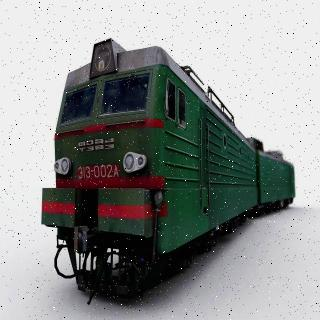poezd: (43, 40, 296, 296)
